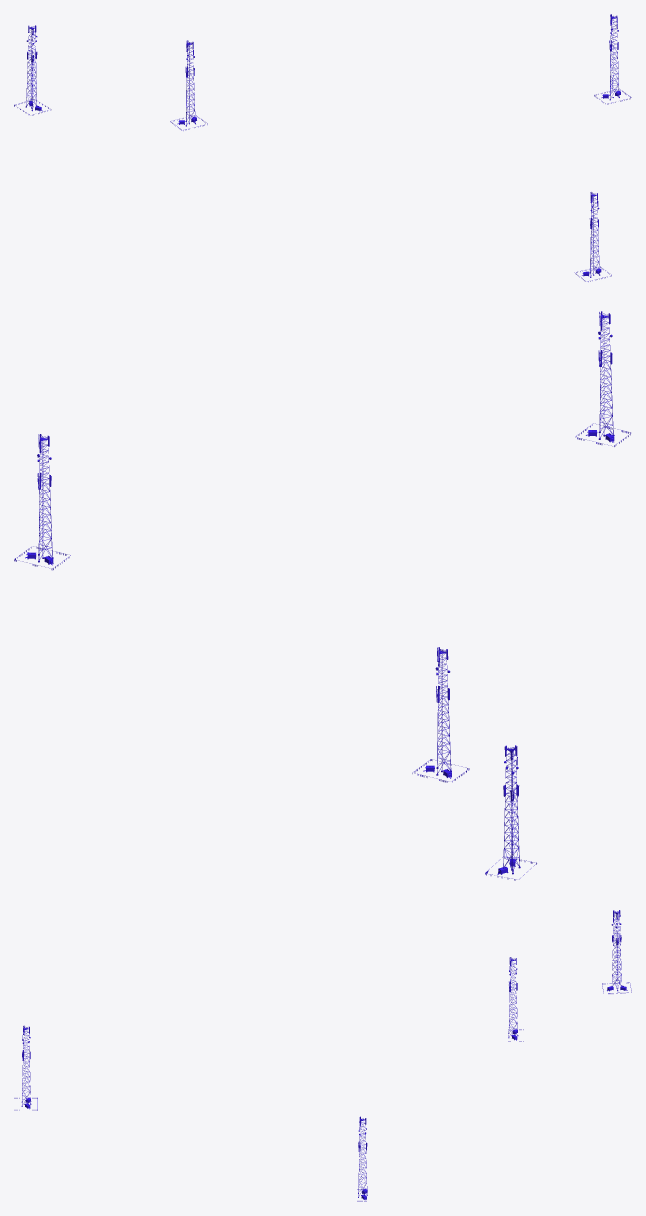
The picture shows the model from 3 angles, top to bottom: view 1: azimuth 30°, elevation 25°; view 2: azimuth 150°, elevation 25°; view 3: azimuth 270°, elevation 25°; orthographic projection. The views are drawn at different scales.
Parts seen in each view (by area): view 1: xinhaota006, xinhaota007, xinhaota005, xinhaota03; view 2: xinhaota006, xinhaota03, xinhaota005, xinhaota007; view 3: xinhaota006, xinhaota007, xinhaota03, xinhaota005.
Boxes of the visible parts, bbox=[...] form: xinhaota006: bbox=[14, 25, 51, 115]; xinhaota007: bbox=[574, 192, 611, 281]; xinhaota005: bbox=[170, 40, 207, 130]; xinhaota03: bbox=[594, 14, 631, 104]; xinhaota006: bbox=[485, 745, 536, 880]; xinhaota03: bbox=[14, 434, 70, 570]; xinhaota005: bbox=[412, 647, 469, 782]; xinhaota007: bbox=[575, 311, 630, 446]; xinhaota006: bbox=[602, 910, 631, 993]; xinhaota007: bbox=[14, 1025, 37, 1110]; xinhaota03: bbox=[357, 1116, 367, 1201]; xinhaota005: bbox=[508, 957, 523, 1041].
Size of the model in its own units: 969 by 161 by 1160.
